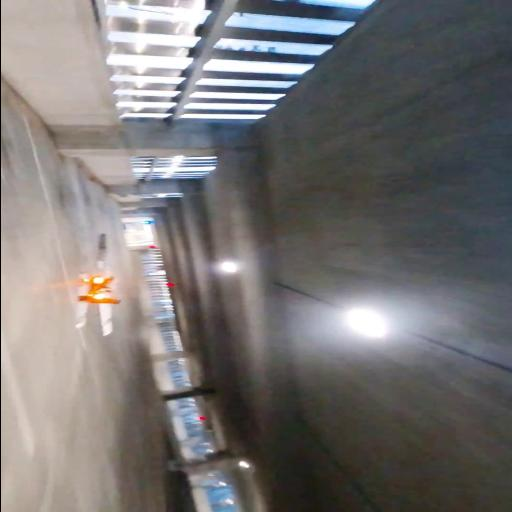uav: (66, 224, 124, 348)
